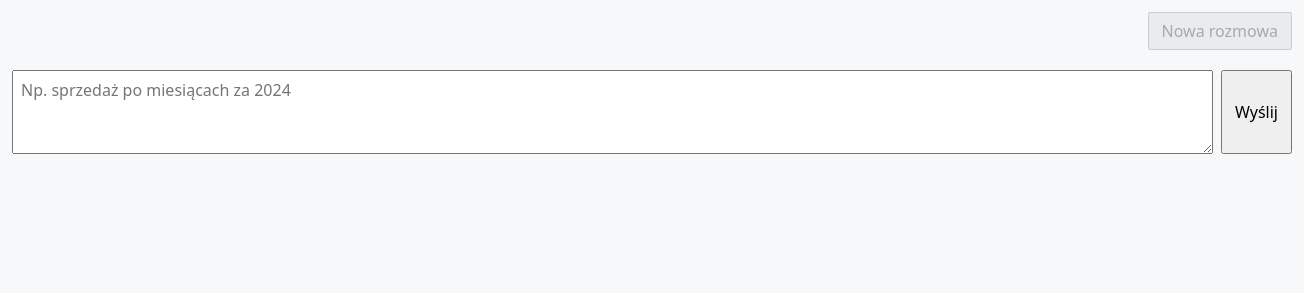
Test: ChatView › marks an answer with a status other than ok
This screenshot has width=1304, height=293.
Type "Raport" into the text box named "Twoja prośba" at [612, 112], box [12,70,1213,154]
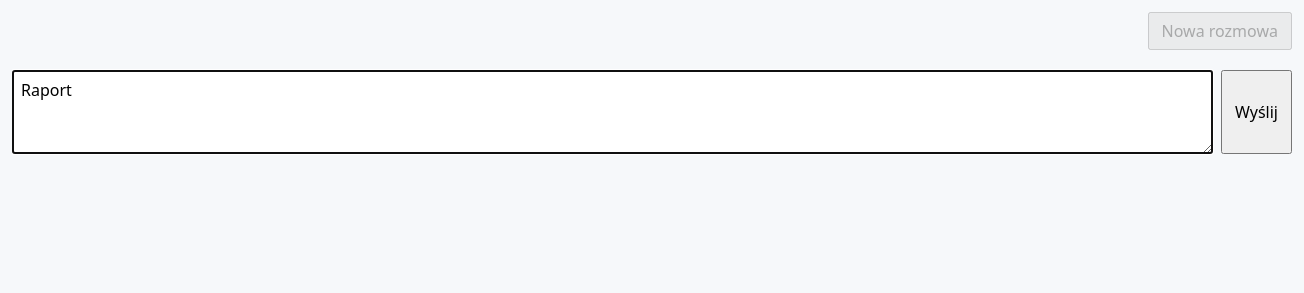
Click the button "Wyślij" at [1256, 112], box [1221,70,1292,154]
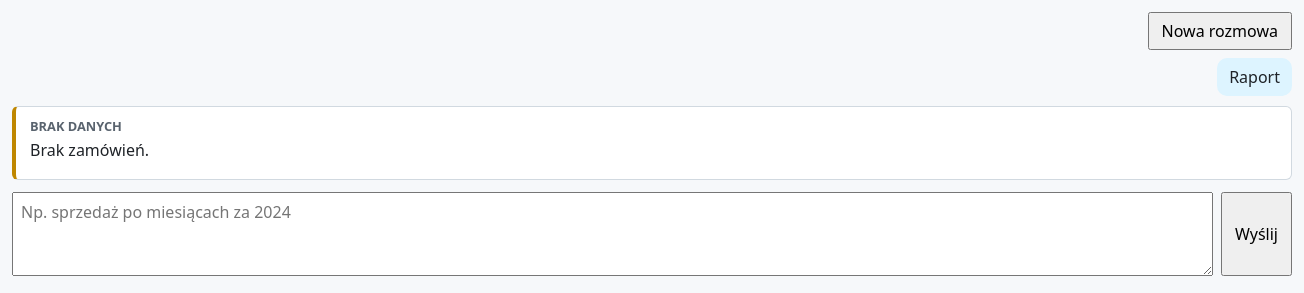
Now the text "Brak danych" is shown, box [30,117,122,135]
